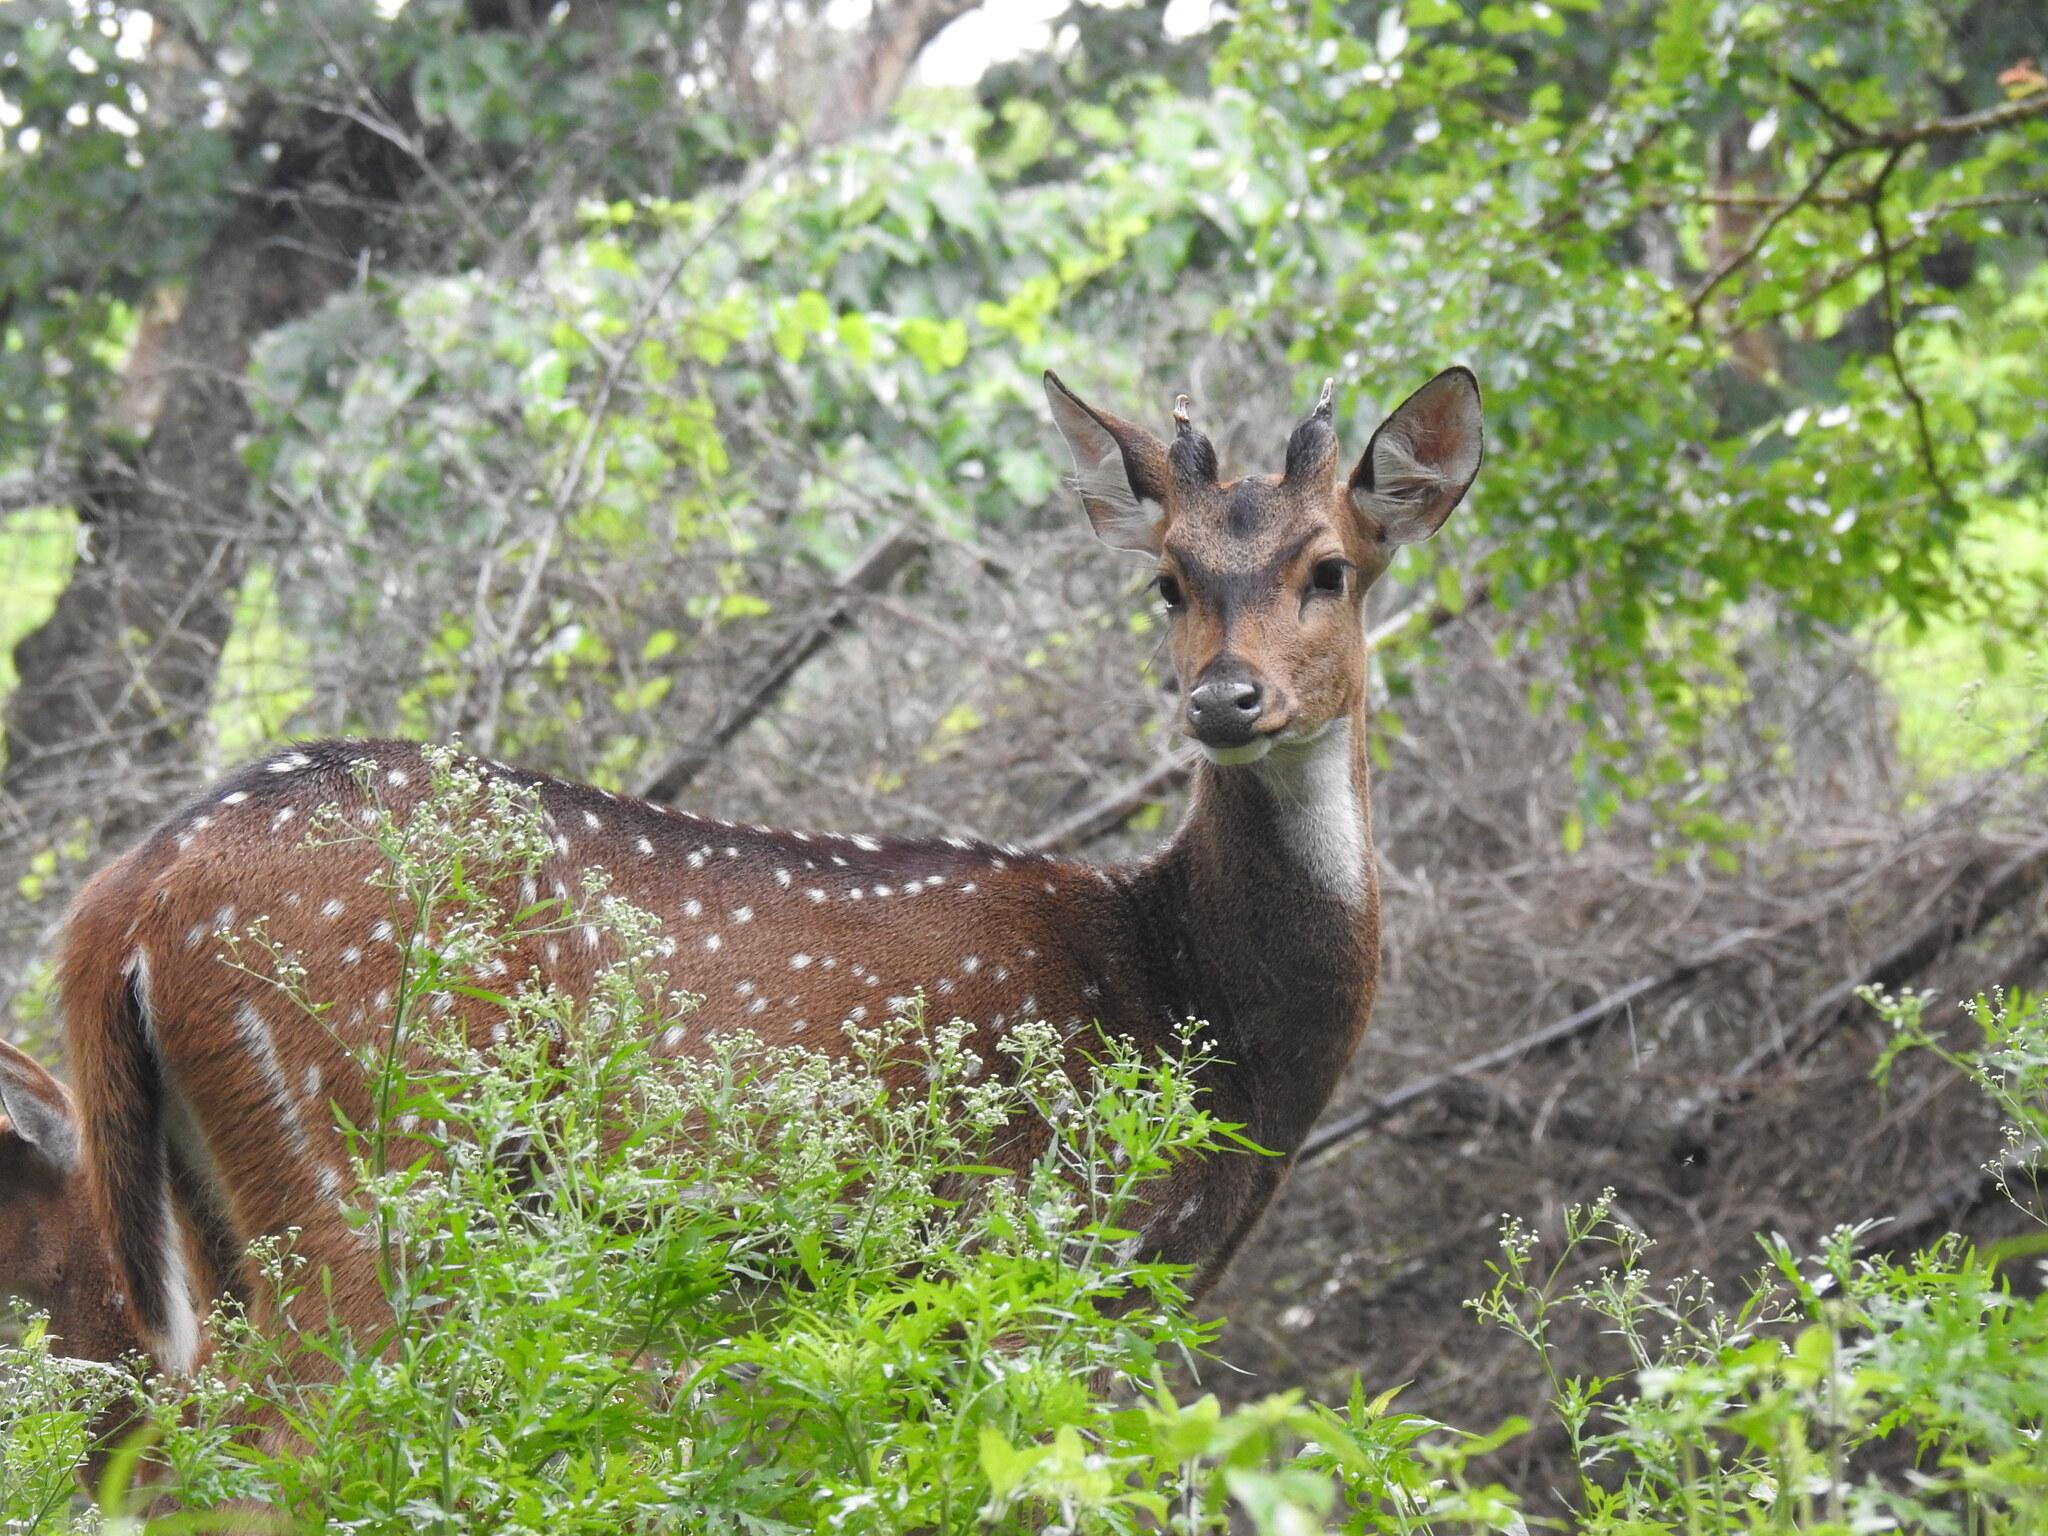Deer: (505, 367, 1482, 1293)
